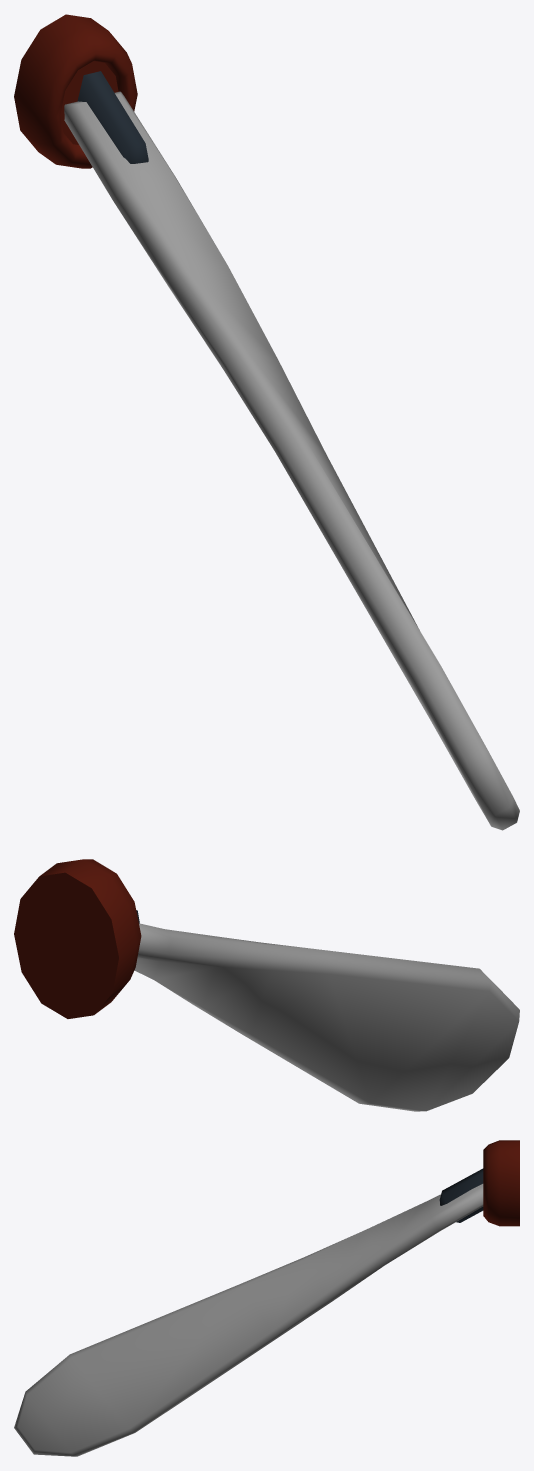
File: Oarfin_animation.FBX
The picture shows the model from 3 angles, top to bottom: view 1: azimuth 30°, elevation 25°; view 2: azimuth 150°, elevation 25°; view 3: azimuth 270°, elevation 25°; orthographic projection. The views are drawn at different scales.
Parts seen in each view (by area): view 1: Fin1, Cylinder001, Cylinder002; view 2: Fin1, Cylinder001; view 3: Fin1, Cylinder001, Cylinder002.
Part boxes in pixels (box(x1,y1,x2,y2)): Fin1: box(64, 91, 519, 830); Cylinder001: box(14, 14, 137, 168); Cylinder002: box(77, 71, 148, 163); Fin1: box(134, 923, 519, 1111); Cylinder001: box(14, 859, 141, 1018); Fin1: box(14, 1184, 483, 1456); Cylinder001: box(483, 1140, 519, 1226); Cylinder002: box(439, 1168, 483, 1222).
Size of the model in its own units: 7.85 by 35.06 by 52.64.
